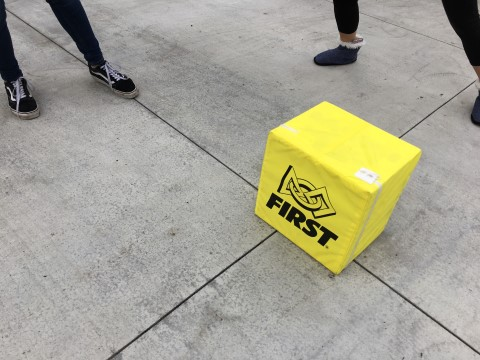cube: (254, 100, 422, 276)
